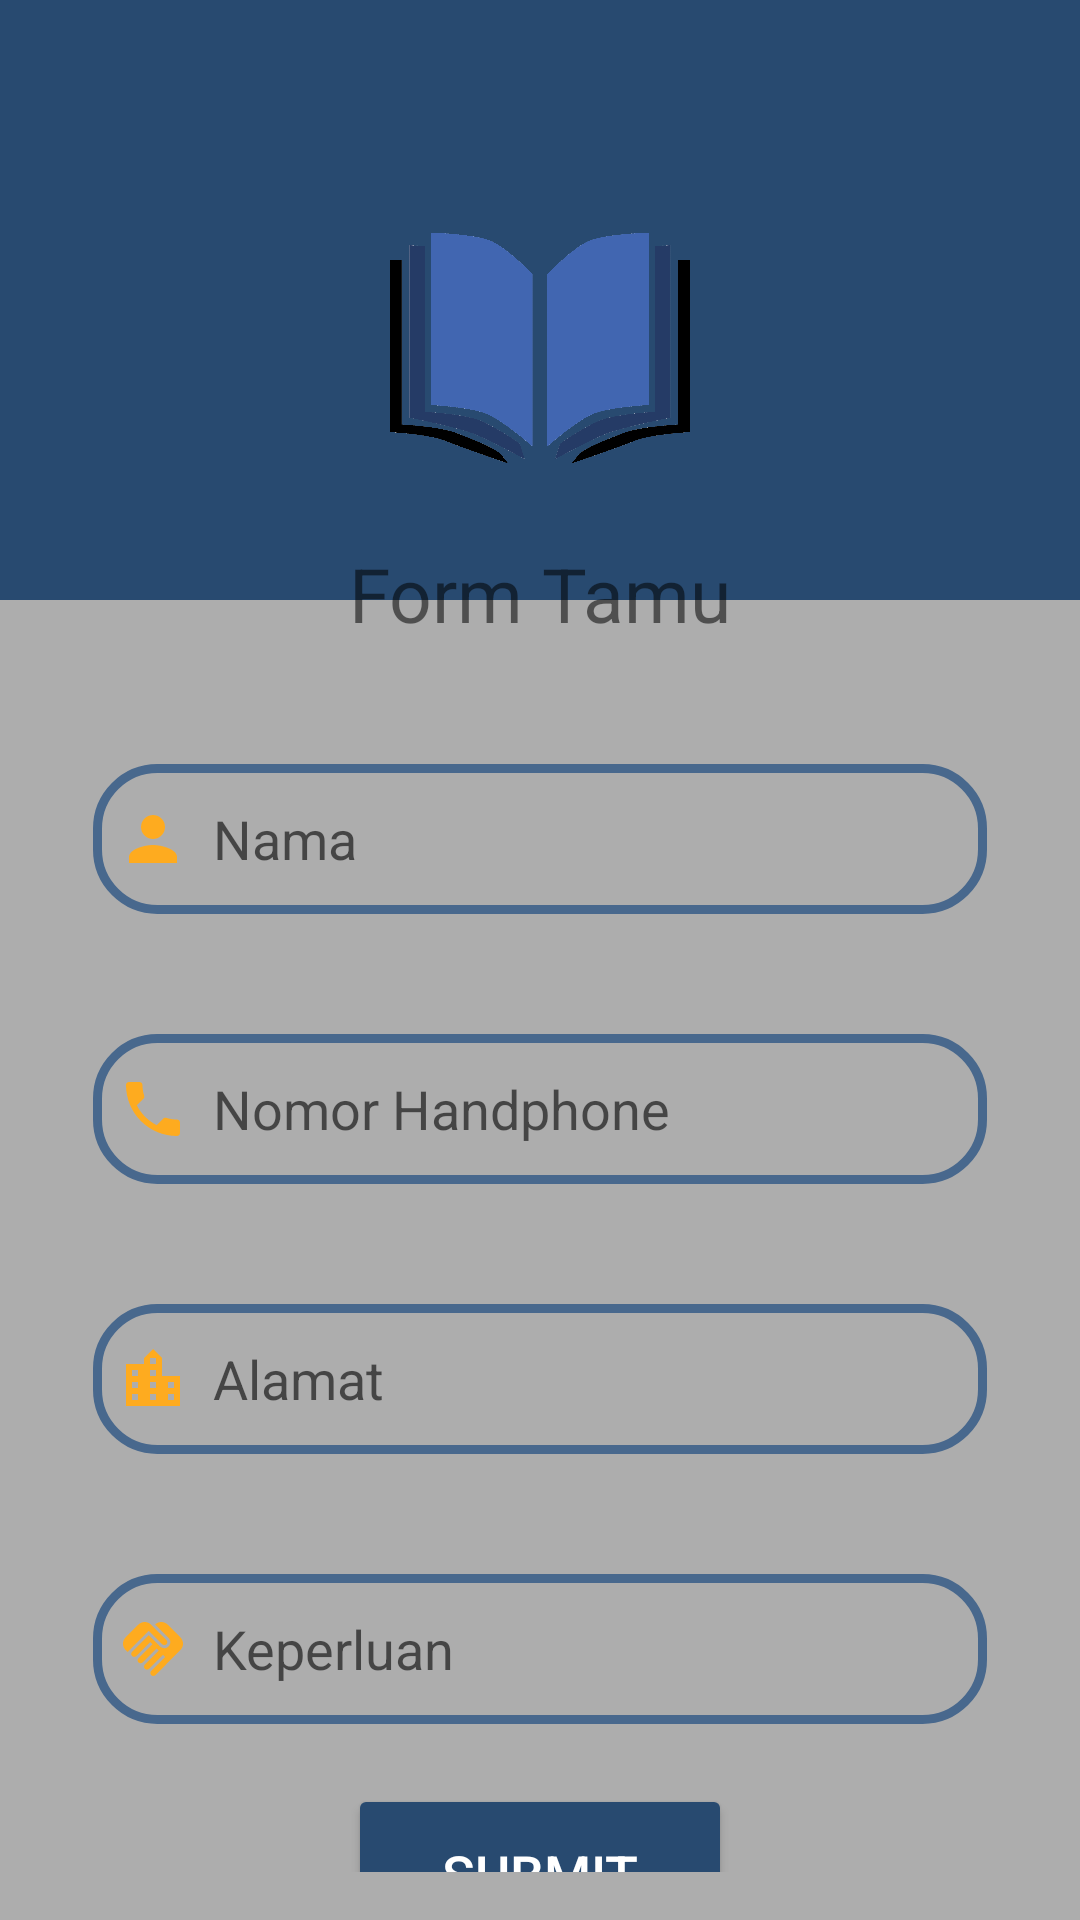

Icons on this 1080x1920 Android screen, each with the point to tap as (x,y):
buku tamu: (540,348)
